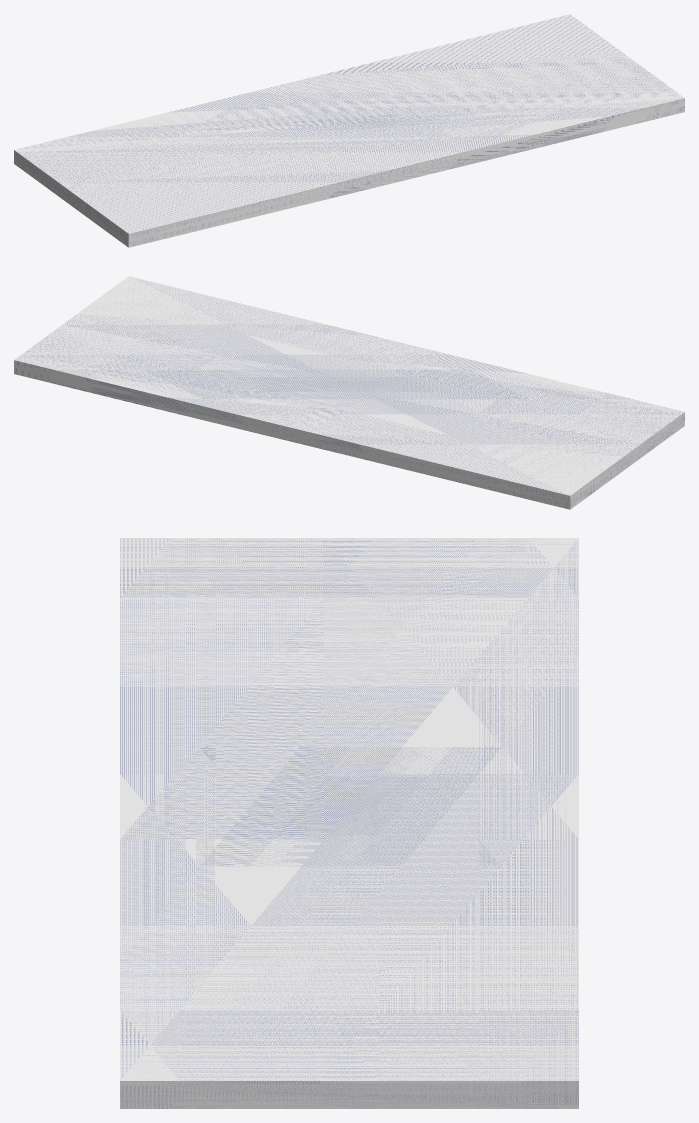
Rendered from Barra.fbx.
3 renders of one model, top to bottom at view 1: azimuth 30°, elevation 25°; view 2: azimuth 150°, elevation 25°; view 3: azimuth 270°, elevation 25°, orthographic. The views are drawn at different scales.
Visible parts, largest first — view 1: Model; view 2: Model; view 3: Model.
Boxes of the visible parts, box(x1,y1,x2,y2) form: Model: box(14, 14, 684, 247); Model: box(14, 276, 684, 509); Model: box(120, 538, 578, 1108).
Size of the model in its own units: 150 by 3.59 by 53.57.
